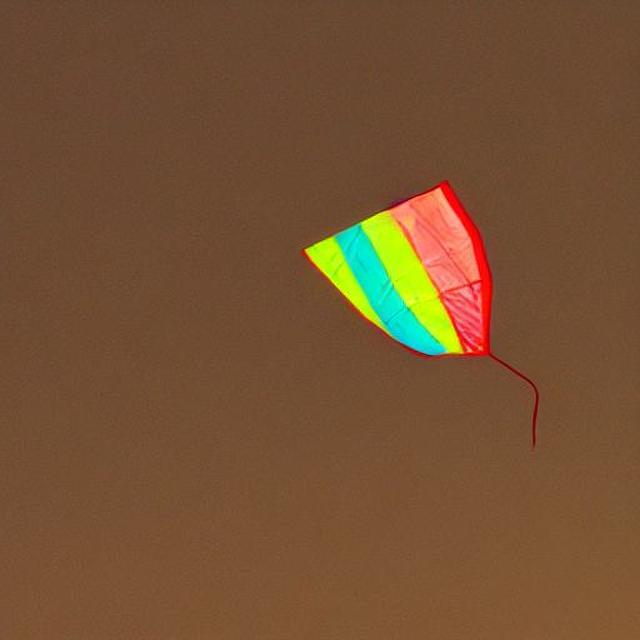floating object: (302, 178, 538, 431)
